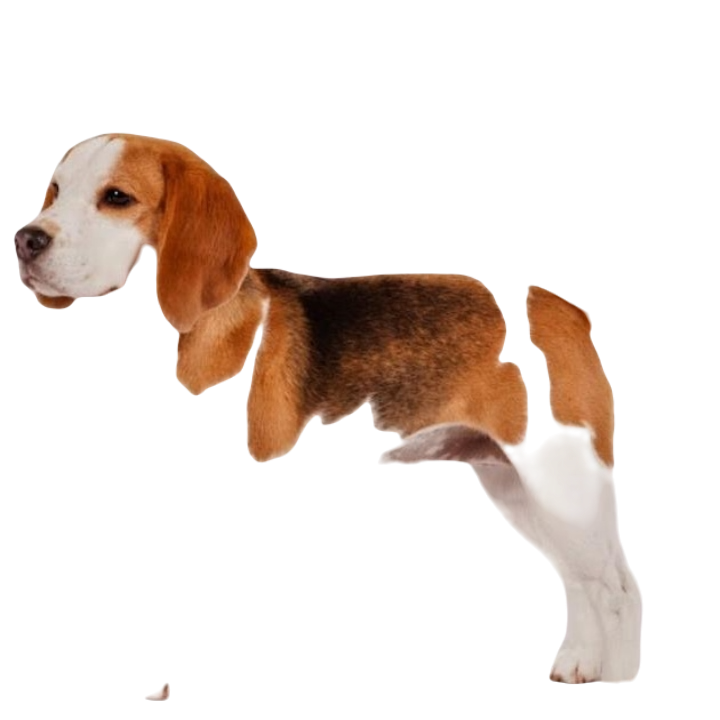Dog: (3, 121, 648, 692)
